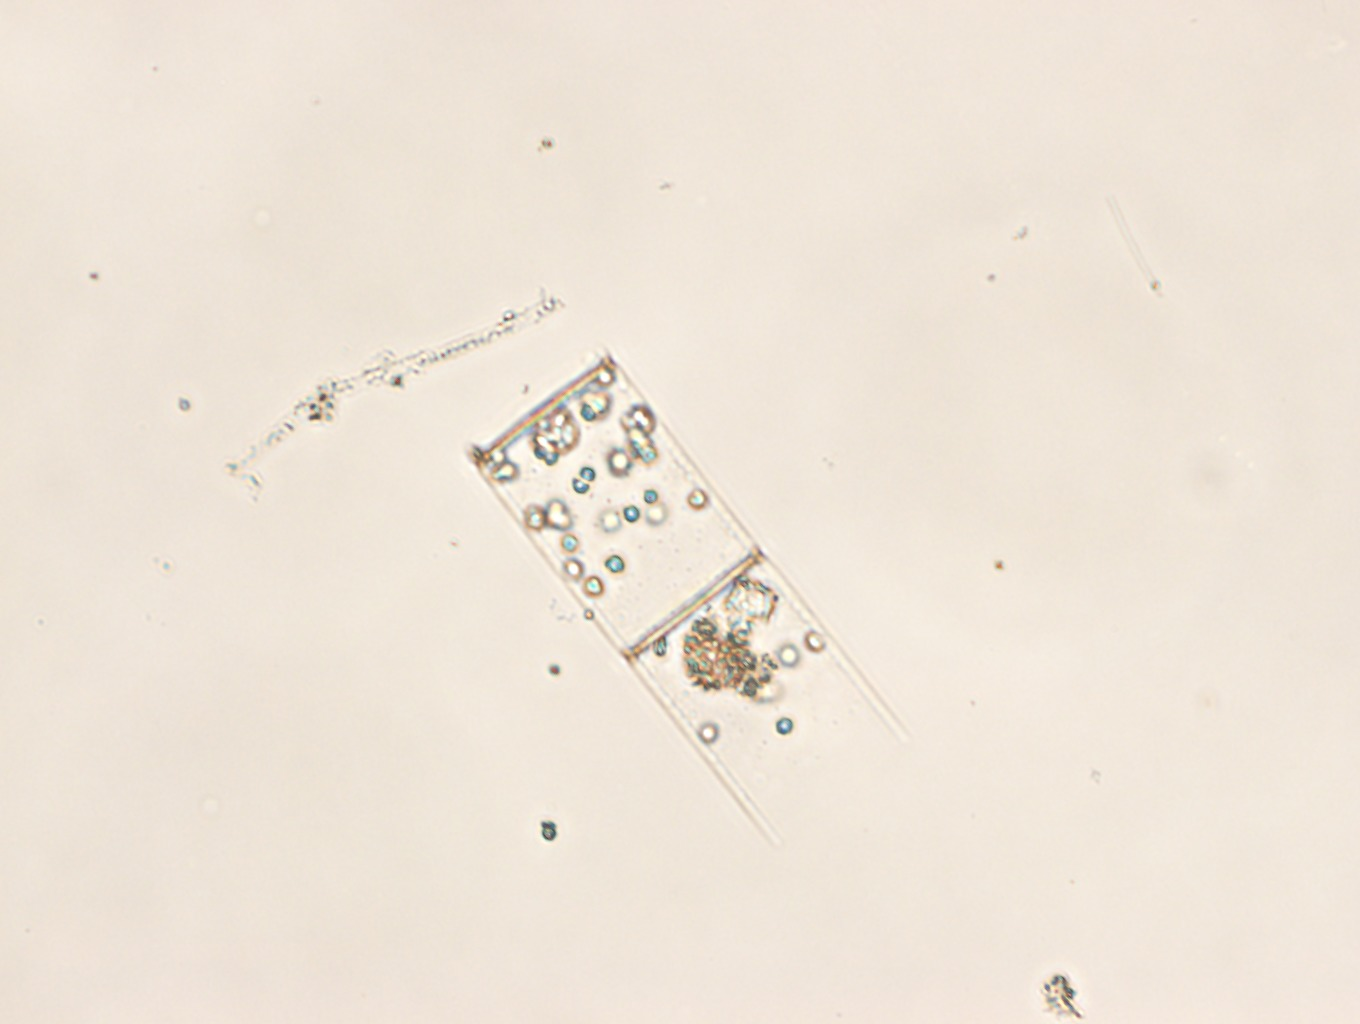guinardia flaccida: (477, 346, 905, 848)
